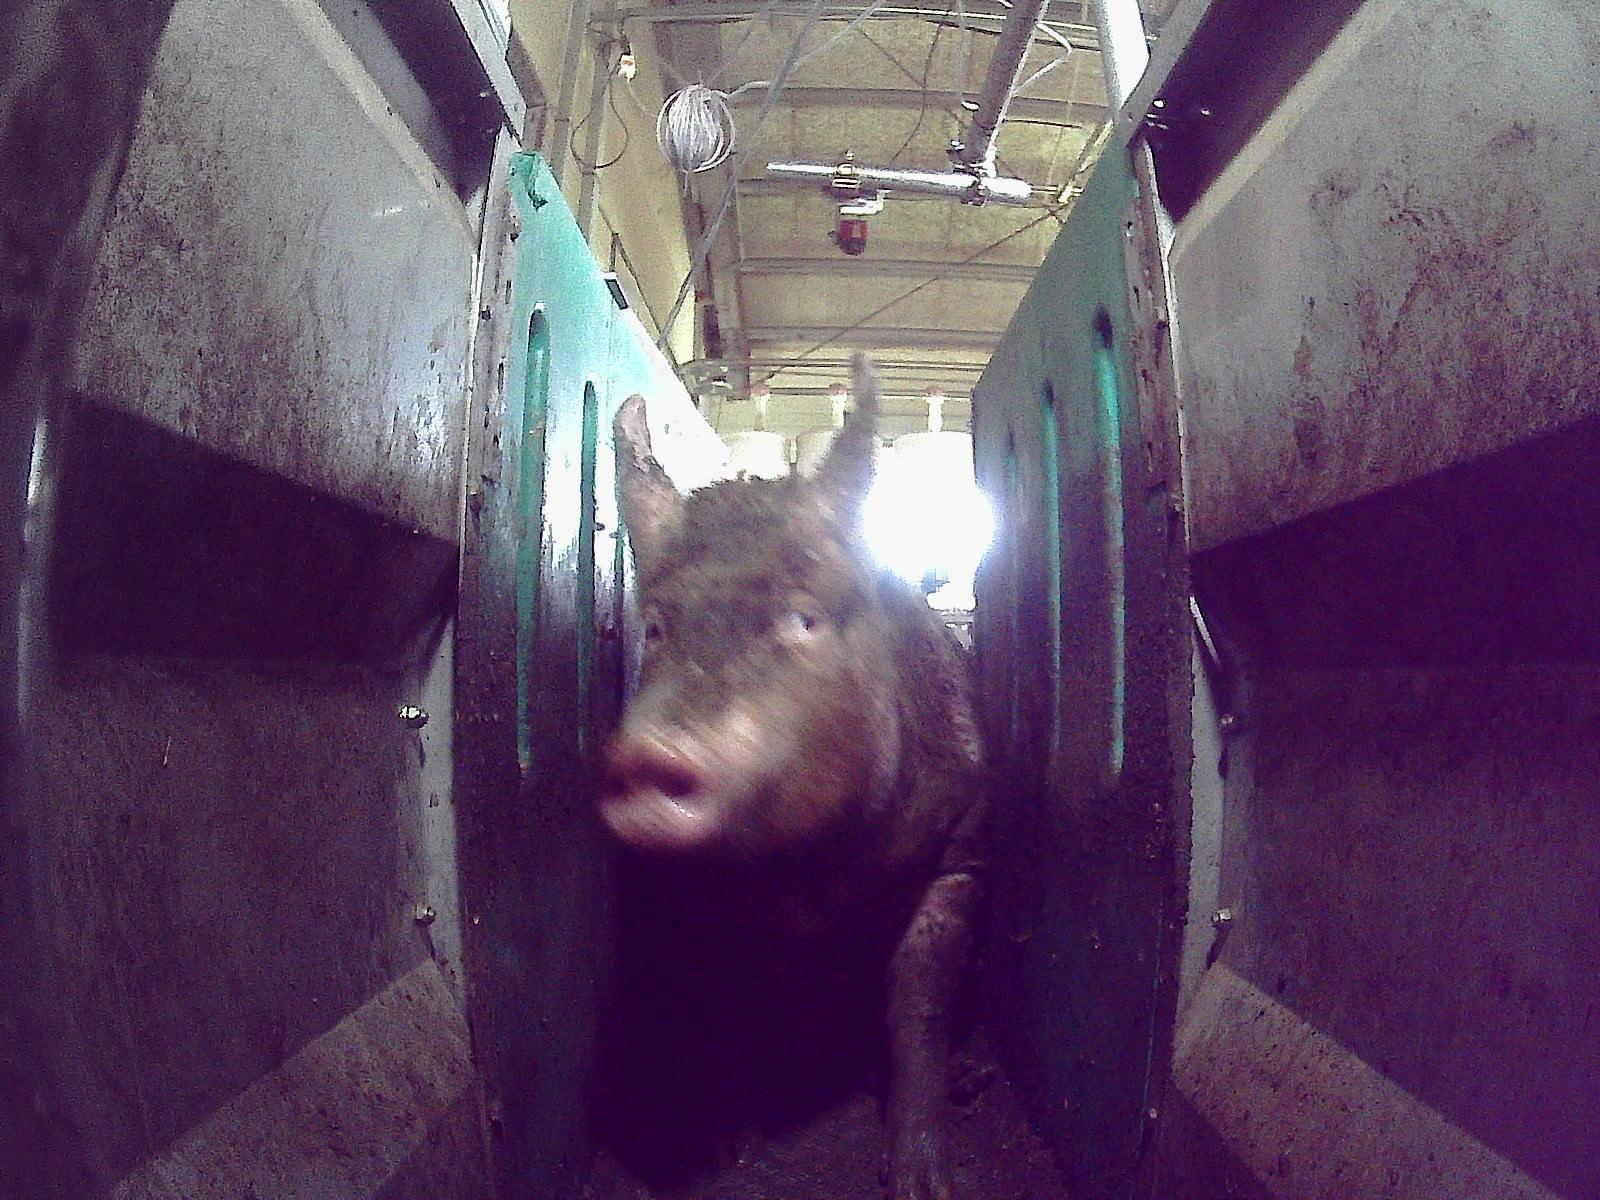Face: (591, 475, 880, 870)
